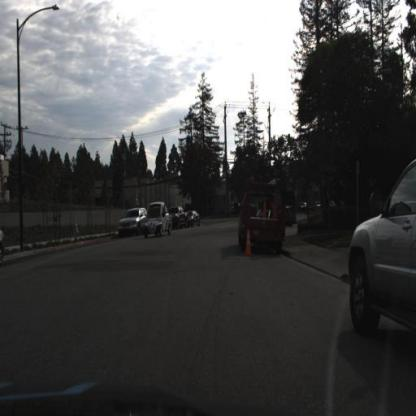car: (351, 154, 416, 349), (238, 174, 290, 255), (146, 201, 174, 238), (119, 208, 150, 238), (169, 203, 187, 231), (184, 207, 205, 231)
